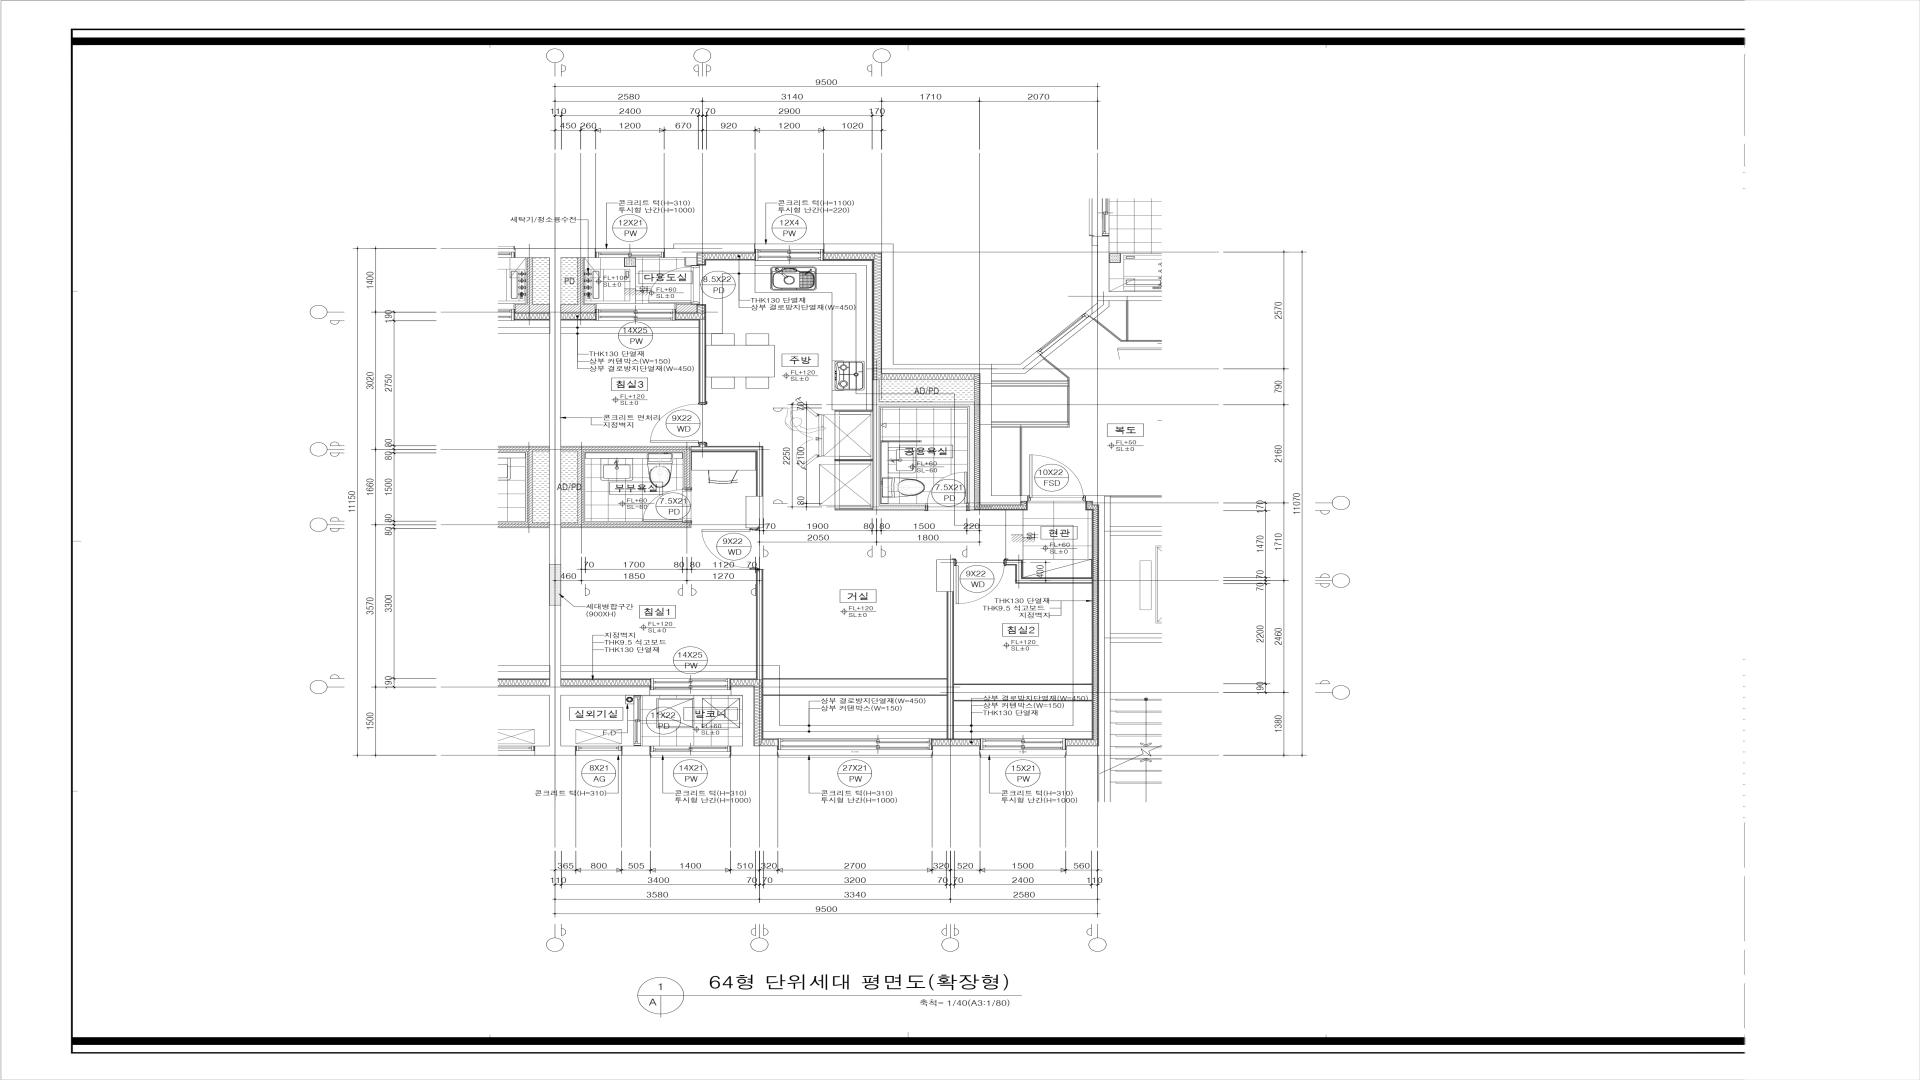door: (1027, 454, 1085, 501), (702, 527, 764, 570), (953, 560, 1007, 604), (650, 402, 704, 444), (926, 471, 969, 509), (642, 488, 690, 522)
wall: (498, 248, 650, 756), (824, 244, 1044, 373), (873, 380, 975, 509), (1067, 496, 1110, 756), (560, 447, 690, 527), (980, 373, 1027, 505), (497, 447, 550, 527), (1097, 236, 1162, 301), (690, 447, 762, 496), (731, 686, 778, 756), (560, 258, 596, 313), (1006, 560, 1092, 583), (514, 258, 549, 313), (665, 244, 754, 257), (948, 592, 952, 738), (757, 570, 762, 679), (936, 559, 953, 592), (583, 522, 690, 527), (746, 496, 764, 527), (700, 319, 705, 402), (932, 746, 980, 756), (1085, 301, 1109, 319), (992, 381, 1068, 386), (992, 422, 1068, 427), (622, 746, 650, 756), (675, 305, 698, 314), (686, 257, 696, 265), (700, 444, 704, 447)
window: (778, 738, 932, 758), (980, 738, 1067, 758), (754, 241, 824, 261), (650, 678, 731, 690), (650, 746, 731, 758), (584, 247, 665, 258), (596, 309, 675, 320), (497, 745, 535, 750), (575, 746, 622, 750)
